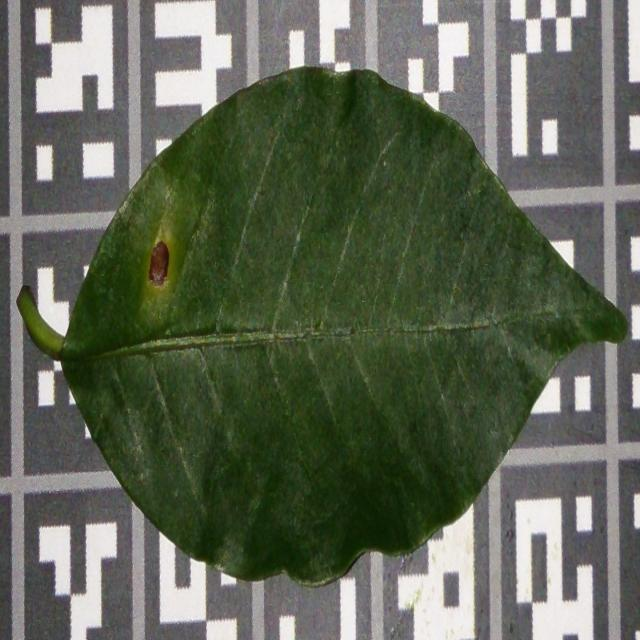Enfermedad-Mancha-de-hierro: (14, 66, 630, 589)
